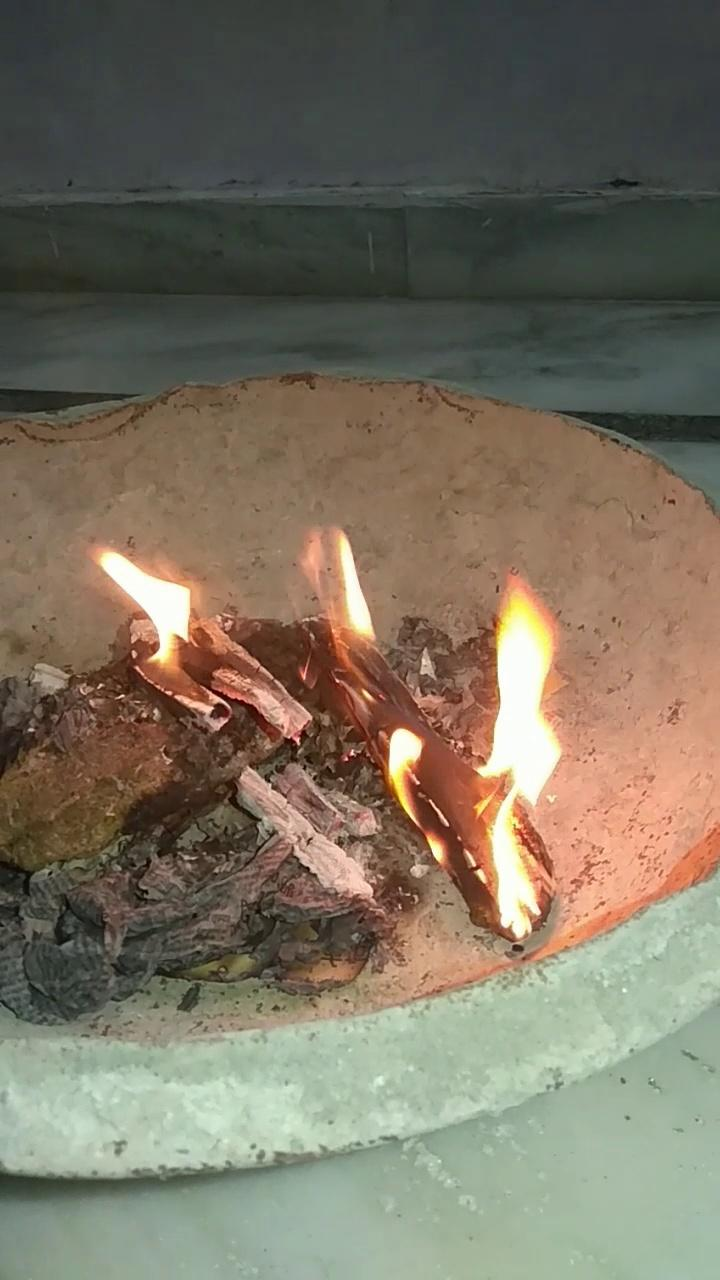fire: (278, 513, 571, 967), (81, 508, 208, 702)
